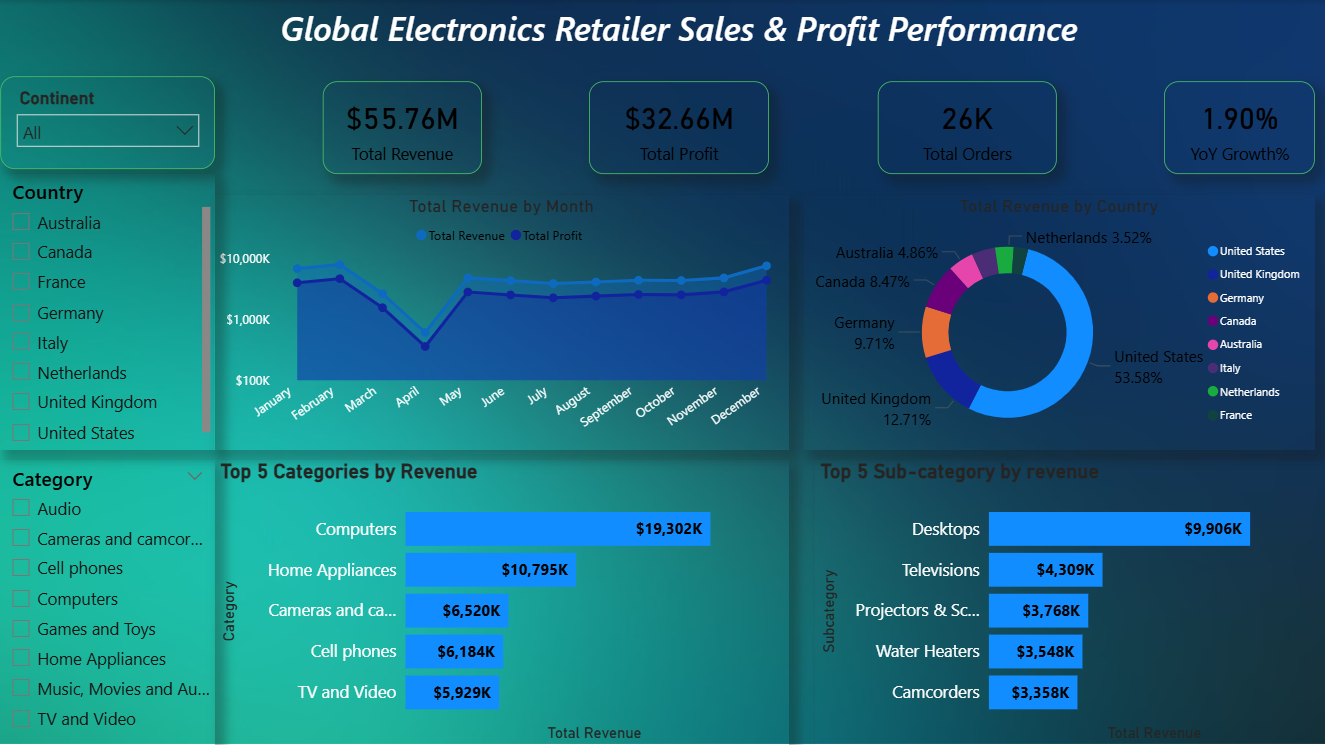

The dashboard page shown, as its layout file describes it:
{"tool":"powerbi","page":{"name":"Page 1","canvas":[1280,720],"ordinal":0},"visuals":[{"type":"card","fields":{"Values":["Sales.Total Revenue"]},"box":[312.5,78.4,153.2,89.3],"z":0},{"type":"card","fields":{"Values":["Sales.total profit"]},"box":[570,78.4,173.7,89.3],"z":1000},{"type":"card","fields":{"Values":["Sales.total orders"]},"box":[847.8,78.4,172.5,89.3],"z":2000},{"type":"areaChart","title":"Total Revenue by Month","fields":{"Category":["Calendar.Month Name"],"Y":["Sales.Total Revenue","Sales.Total Profit"]},"box":[207.5,188.2,555,246.1],"z":3000},{"type":"slicer","fields":{"Values":["Products.Category"]},"box":[0,444,208.7,276.3],"z":4000},{"type":"slicer","fields":{"Values":["Customers.Country"]},"box":[0,167.7,208.7,266.6],"z":5000},{"type":"clusteredBarChart","title":"Top 5 Categories by Revenue","fields":{"Category":["Products.Category"],"Y":["Sales.Total Revenue"]},"box":[208.7,444,553.8,276.3],"z":6000},{"type":"donutChart","fields":{"Category":["Customers.Country"],"Y":["Sales.Total Revenue"]},"box":[775.7,188.2,494.6,246.1],"z":7000},{"type":"clusteredBarChart","title":"Top 5 Sub-category by revenue","fields":{"Category":["Products.Subcategory"],"Y":["Sales.Total Revenue"]},"box":[787.8,444,492.2,276.3],"z":8000},{"type":"slicer","fields":{"Values":["Customers.Continent"]},"box":[1.2,73.6,207.5,89.3],"z":9000},{"type":"textbox","box":[32.6,0,1247.5,73.6],"z":10000},{"type":"card","fields":{"Values":["Sales.YoY Growth%"]},"box":[1124.4,78.4,146,89.3],"z":12000}]}

Visuals, with their boxes in screenshot pixels (x1, y1, x2, y2), scaled from the page's 1280x720 canvas onto the 1325x745 screenshot:
card - Sales.Total Revenue: box=[323, 81, 482, 174]
card - Sales.total profit: box=[590, 81, 770, 174]
card - Sales.total orders: box=[878, 81, 1056, 174]
"Total Revenue by Month" areaChart: box=[215, 195, 789, 449]
slicer - Products.Category: box=[0, 459, 216, 744]
slicer - Customers.Country: box=[0, 174, 216, 449]
"Top 5 Categories by Revenue" clusteredBarChart: box=[216, 459, 789, 744]
donutChart - Customers.Country x Sales.Total Revenue: box=[803, 195, 1315, 449]
"Top 5 Sub-category by revenue" clusteredBarChart: box=[815, 459, 1324, 744]
slicer - Customers.Continent: box=[1, 76, 216, 169]
textbox: box=[34, 0, 1324, 76]
card - Sales.YoY Growth%: box=[1164, 81, 1315, 174]
